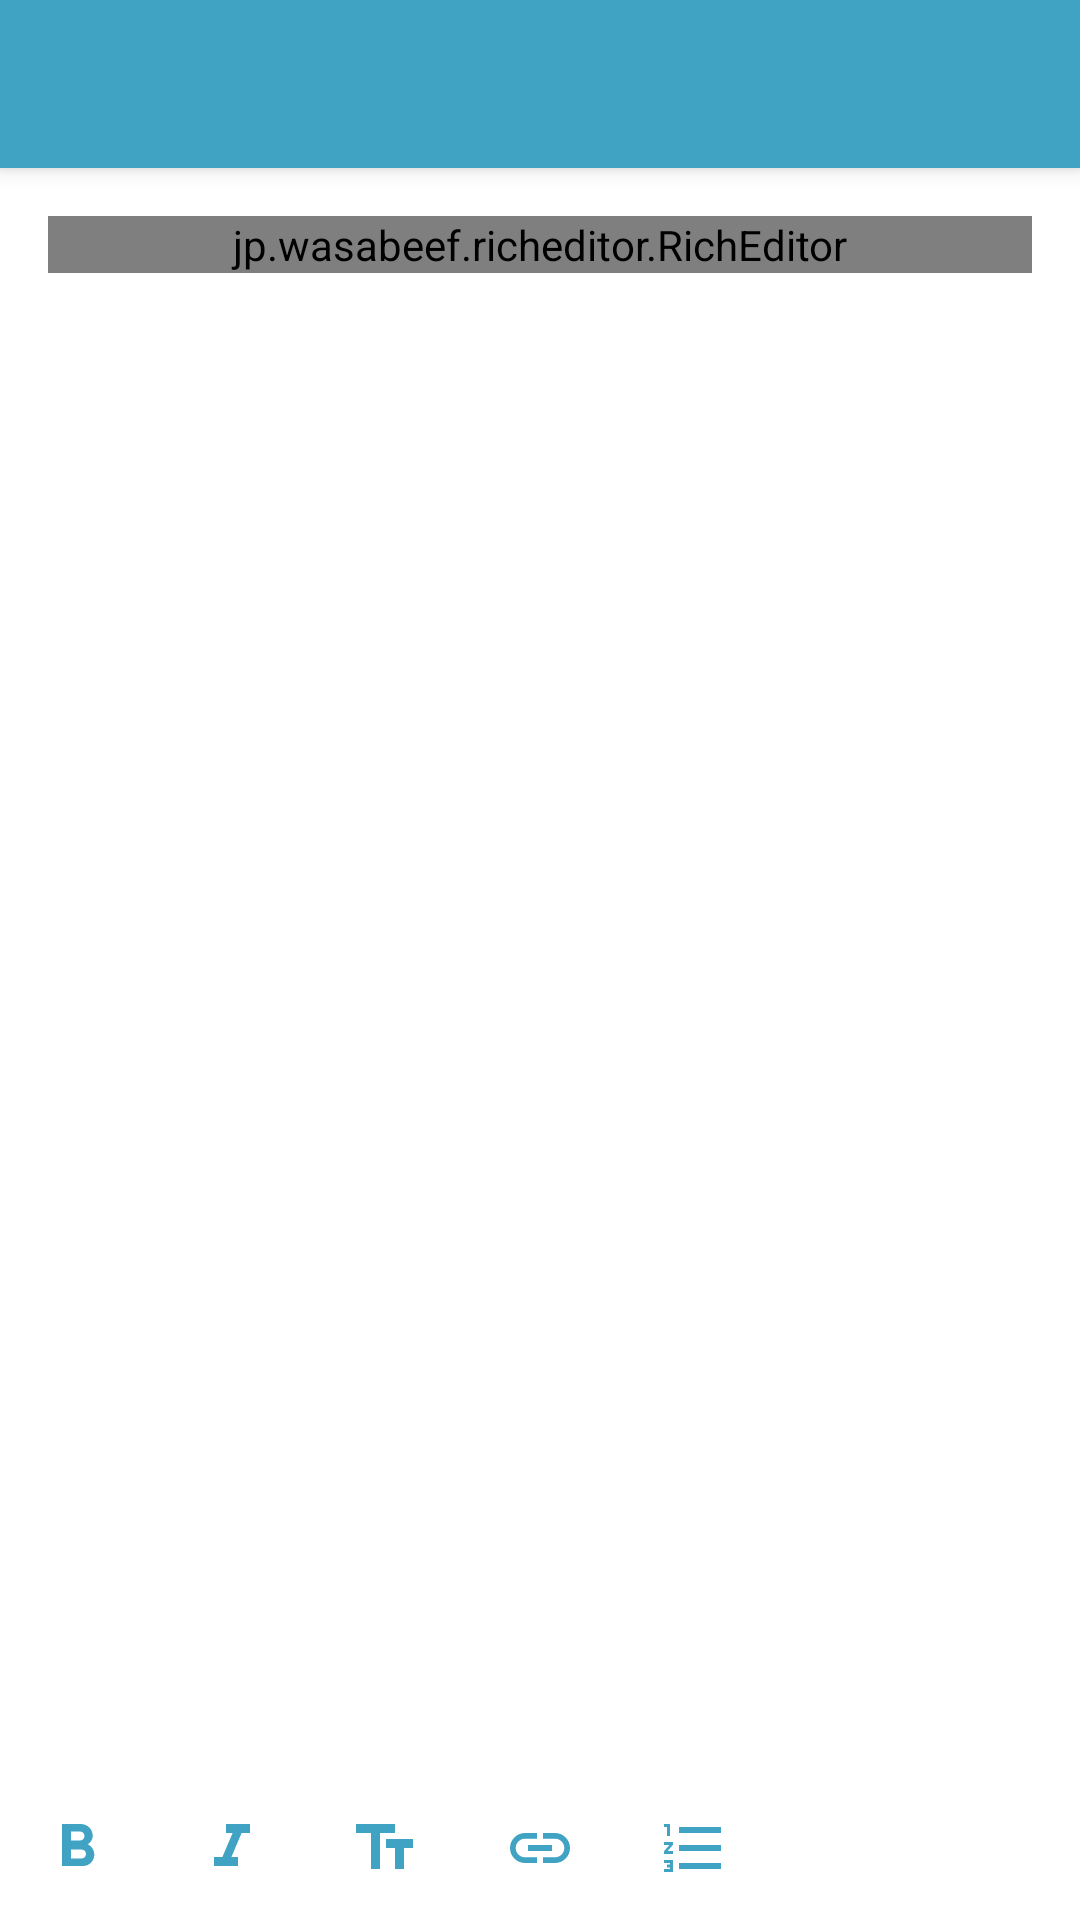

Icons on this 1080px x 1920px Android screen, each with the point to tap as (x=x, y=y):
format italic: (x=232, y=1845)
format list numbered: (x=692, y=1848)
insert link: (x=540, y=1848)
